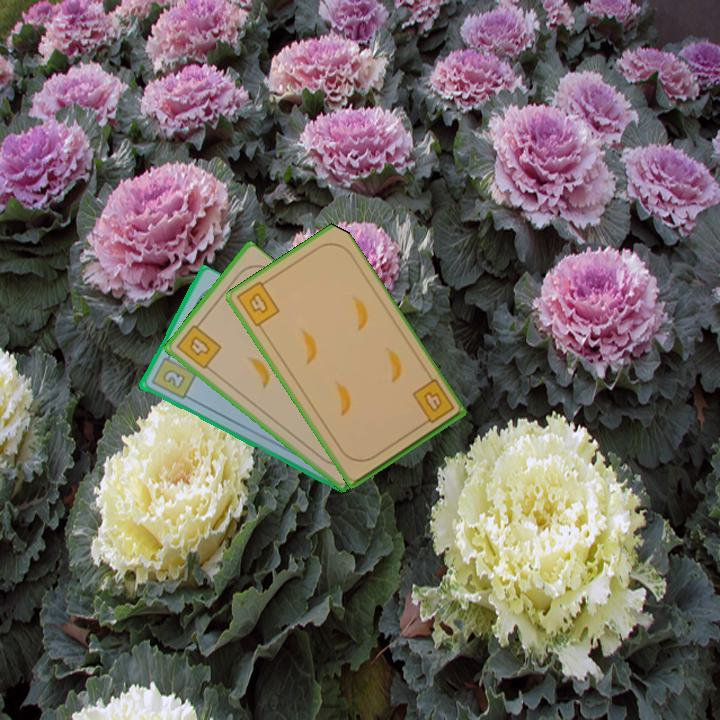2b: (147, 349, 199, 402)
4b: (172, 317, 225, 372), (233, 276, 282, 330), (408, 376, 457, 429)
